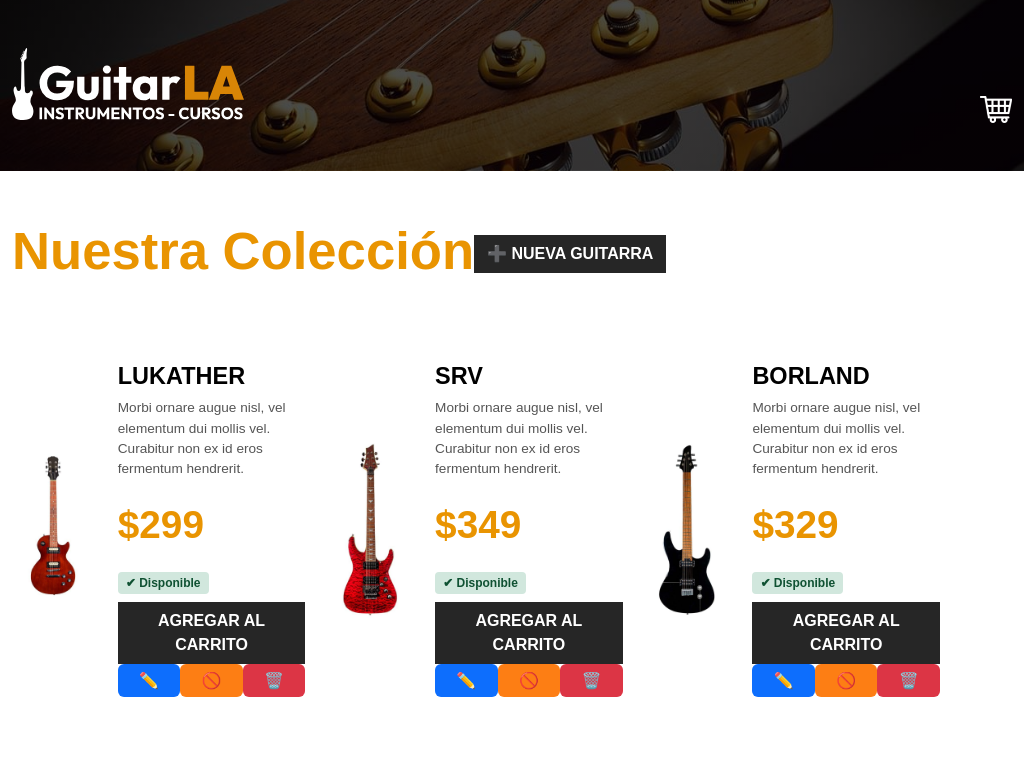
Test case: Modal de guitarra (crear/editar) › deberia mostrar error de validación si se envía el formulario vacío
This screenshot has width=1024, height=768.
What coordinates should you click on to do the following:
click the button titled "Agregar nueva guitarra"
I would click on:
 (570, 254)
Its box is [474,235,666,273].
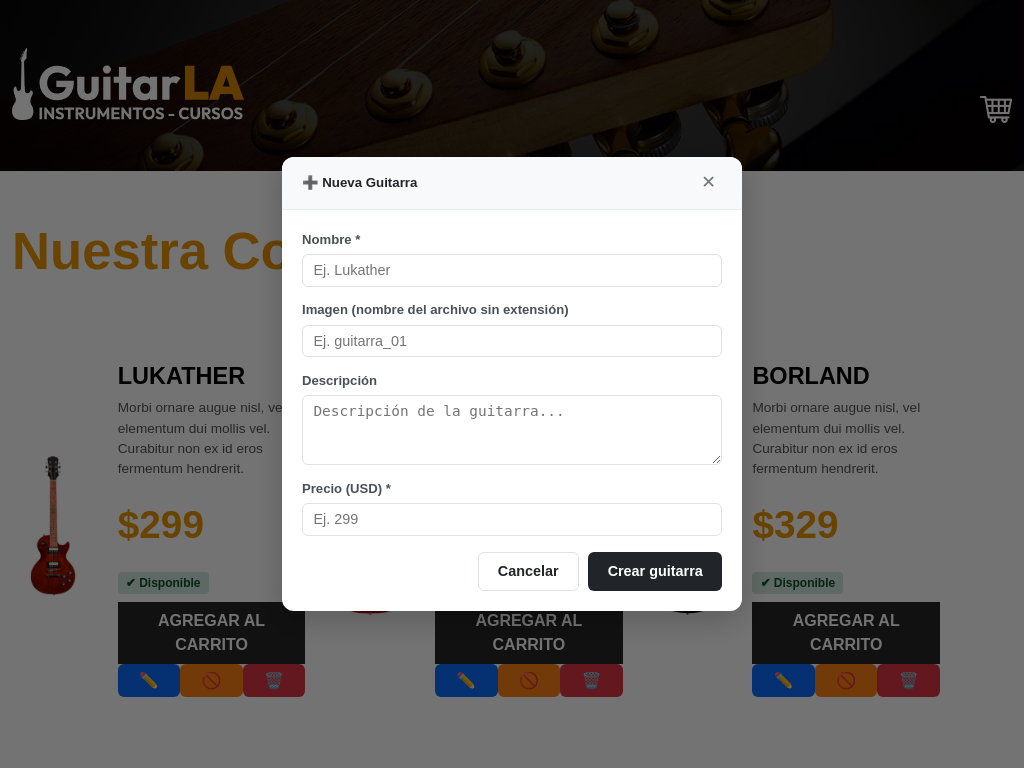
What coordinates should you click on to do the following:
click the button "Crear guitarra"
I would click on:
 (655, 571)
Its box is [588,552,722,591].
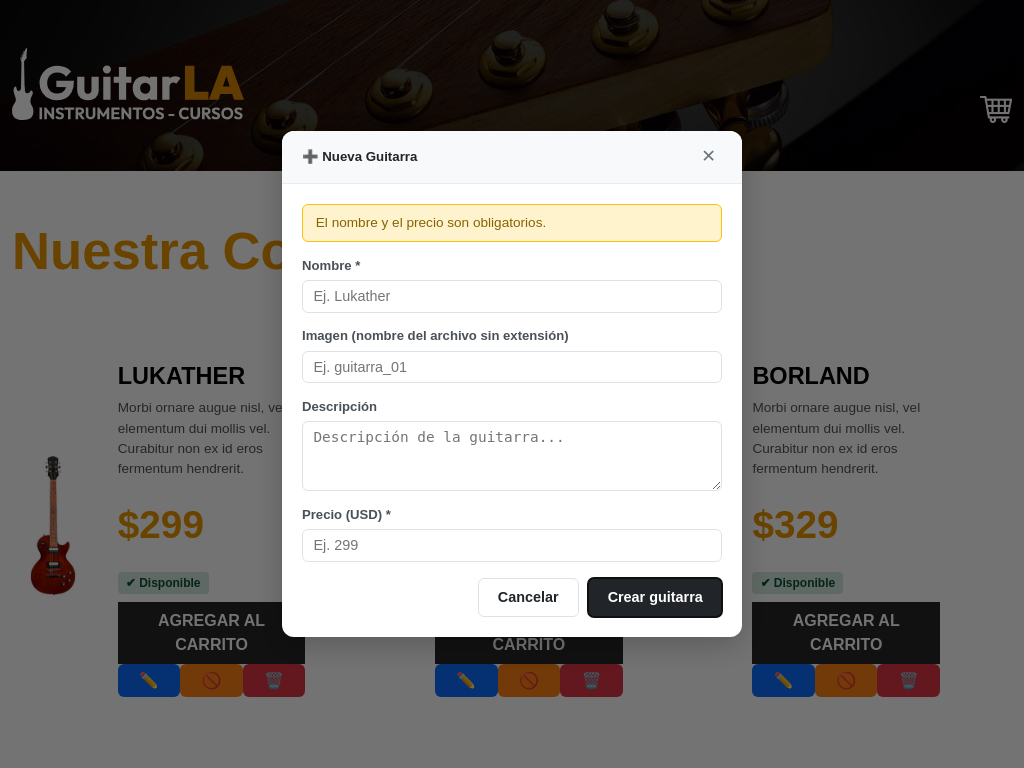
Check: the text "El nombre y el precio son obligatorios." is shown, box [302,204,722,242]
